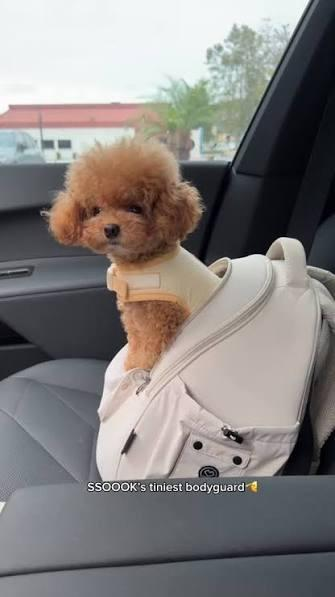puppy-dog: (42, 132, 219, 376)
